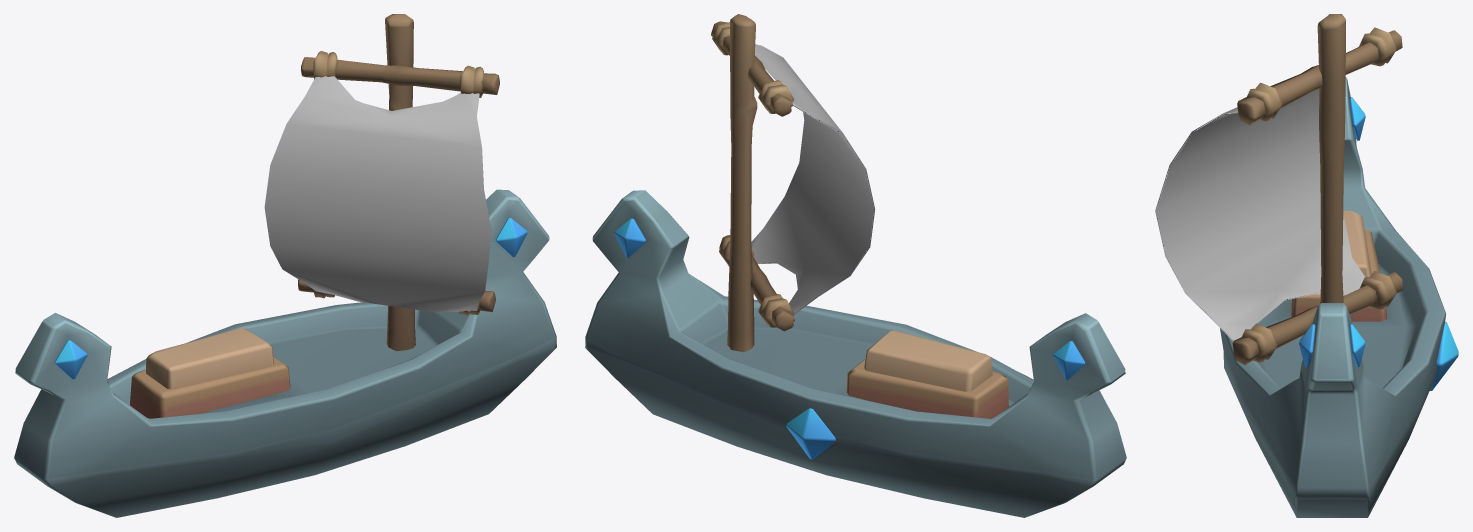
File: CharSkyKid_Prop_AP32MessageInABottle.glb
3 views of the same model, side by side, from view 1: azimuth 30°, elevation 25°; view 2: azimuth 150°, elevation 25°; view 3: azimuth 270°, elevation 25° (orthographic). The views are drawn at different scales.
Parts seen in each view (by area): view 1: CharSkyKid_Prop_AP32MessageInABottle; view 2: CharSkyKid_Prop_AP32MessageInABottle; view 3: CharSkyKid_Prop_AP32MessageInABottle.
Boxes of the visible parts, x1,y1,x2,y2 form: CharSkyKid_Prop_AP32MessageInABottle: [14, 14, 556, 517]; CharSkyKid_Prop_AP32MessageInABottle: [585, 14, 1126, 517]; CharSkyKid_Prop_AP32MessageInABottle: [1155, 14, 1458, 517].
Size of the model in its own units: 0.6568 by 0.5043 by 0.2926.
1 material, 1 textured.
